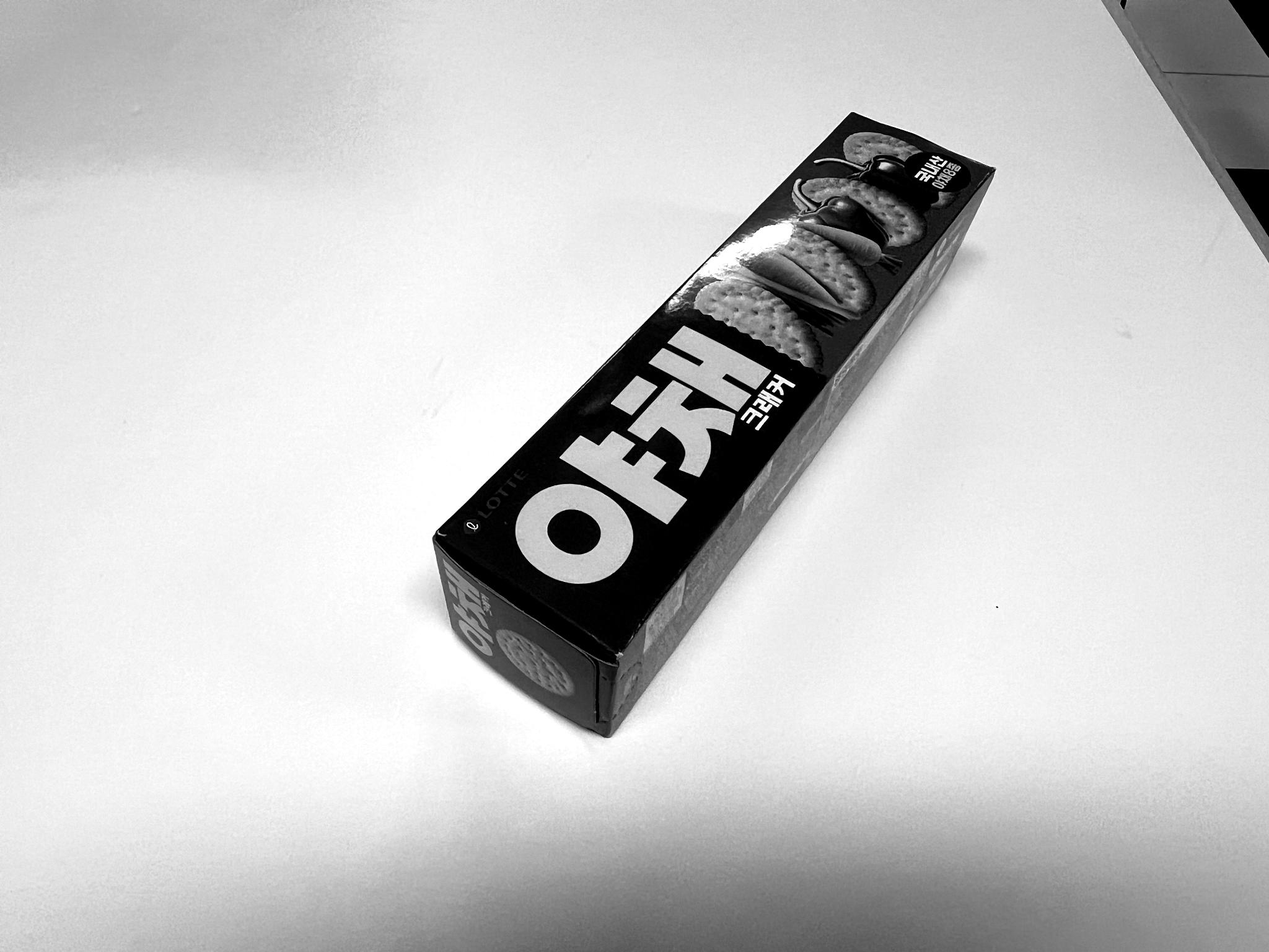cracker_vege: (433, 108, 996, 737)
